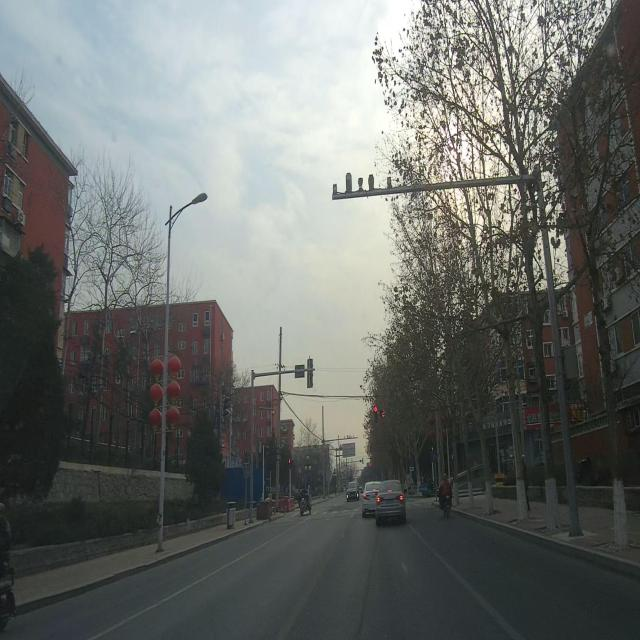Traffic Light -Red-: (373, 404, 379, 424)
